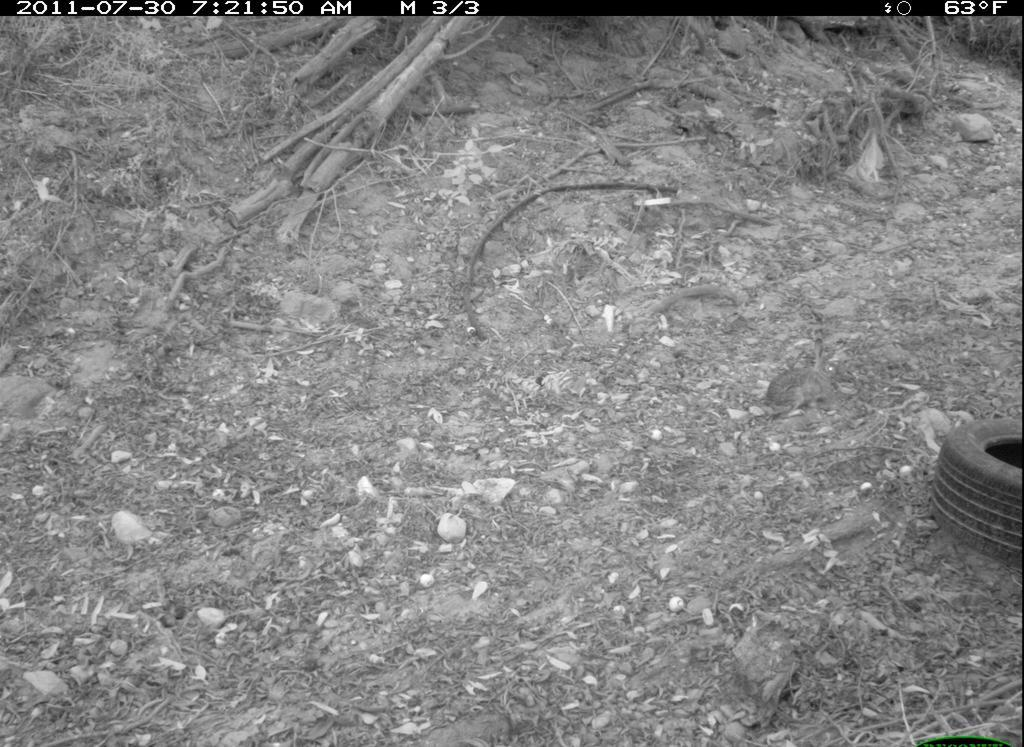rabbit: (752, 336, 866, 415)
